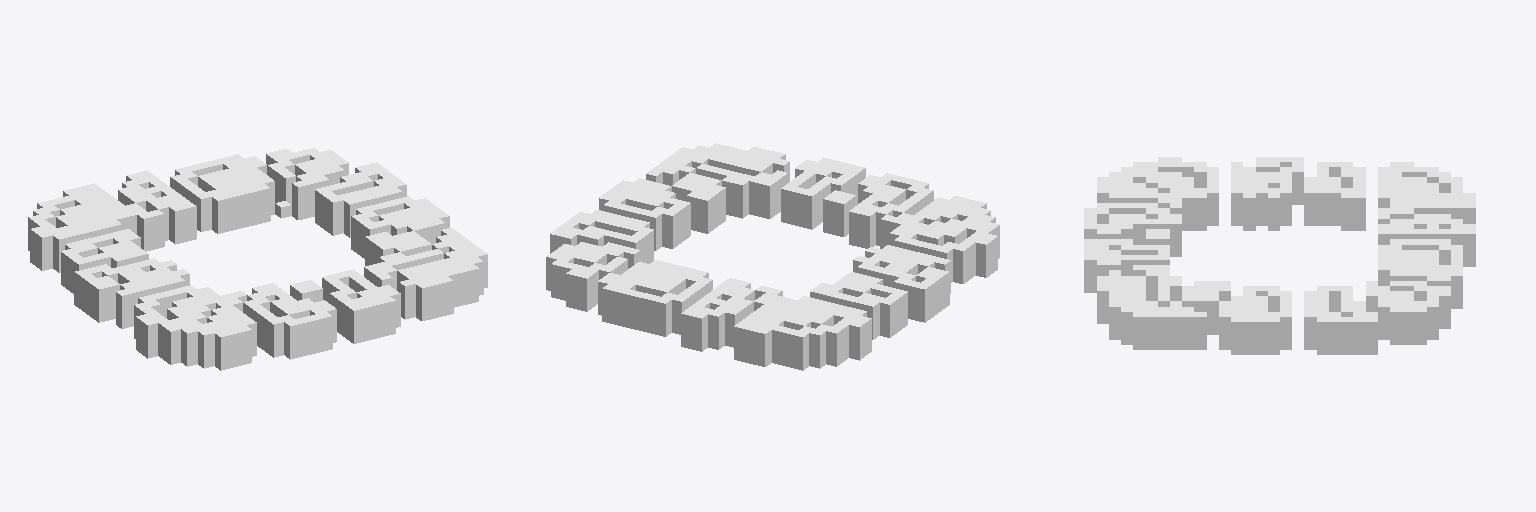
File: TrapdoorOpen-0-TrapdoorOpen.obj
The picture shows the model from 3 angles: view 1: azimuth 30°, elevation 25°; view 2: azimuth 150°, elevation 25°; view 3: azimuth 270°, elevation 25°; orthographic projection.
Visible parts, largest first — view 1: TrapdoorOpen; view 2: TrapdoorOpen; view 3: TrapdoorOpen.
Part boxes in pixels (x1,y1,x2,y2): TrapdoorOpen: (28, 148, 487, 370); TrapdoorOpen: (546, 143, 999, 370); TrapdoorOpen: (1084, 157, 1475, 354).
Size of the model in its own units: 3.2 by 0.3 by 3.2.